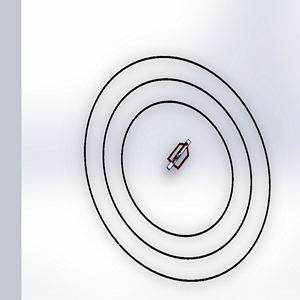circle: (80, 47, 274, 290)
submarine: (156, 133, 205, 186)
